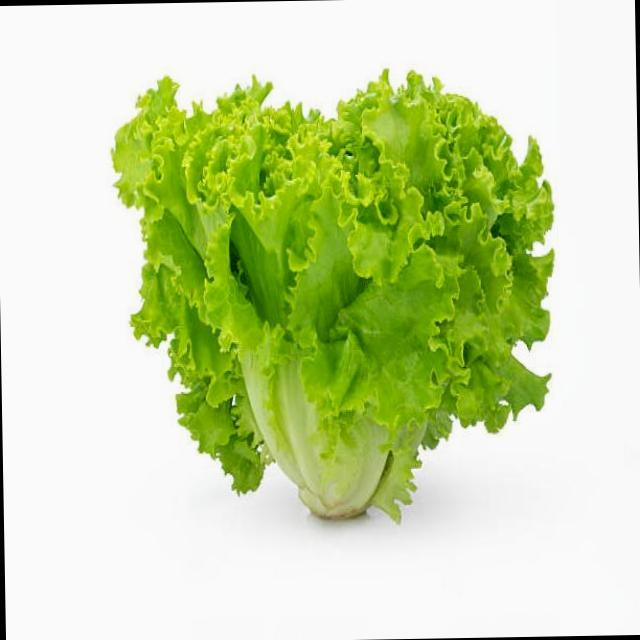Lettuce-Ready-to-Harvest: (108, 70, 555, 524)
